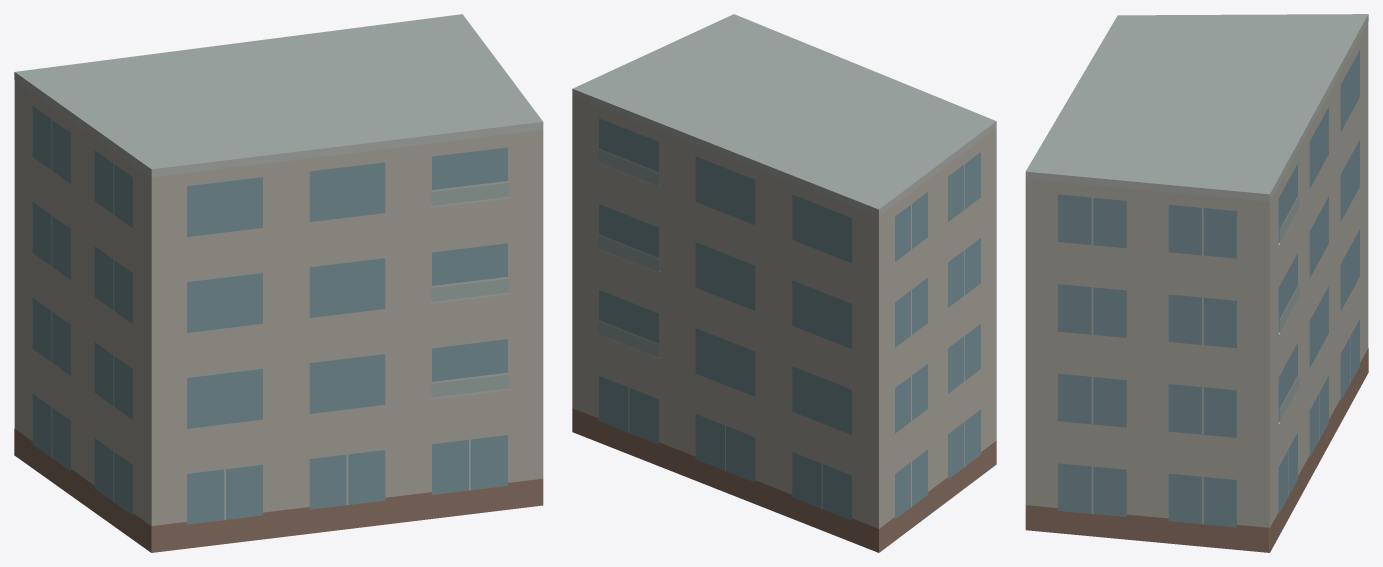
File: survey-upis-32963187.glb
The picture shows the model from 3 angles, left to right: view 1: azimuth 30°, elevation 25°; view 2: azimuth 150°, elevation 25°; view 3: azimuth 270°, elevation 25°; orthographic projection. The views are drawn at different scales.
Visible parts, largest first — view 1: survey-upis-32963187.tmp; view 2: survey-upis-32963187.tmp; view 3: survey-upis-32963187.tmp.
Part boxes in pixels (x1,y1,x2,y2): survey-upis-32963187.tmp: (14,14,543,552); survey-upis-32963187.tmp: (572,14,996,552); survey-upis-32963187.tmp: (1025,14,1368,552).
Size of the model in its own units: 12.52 by 11.6 by 10.07.
